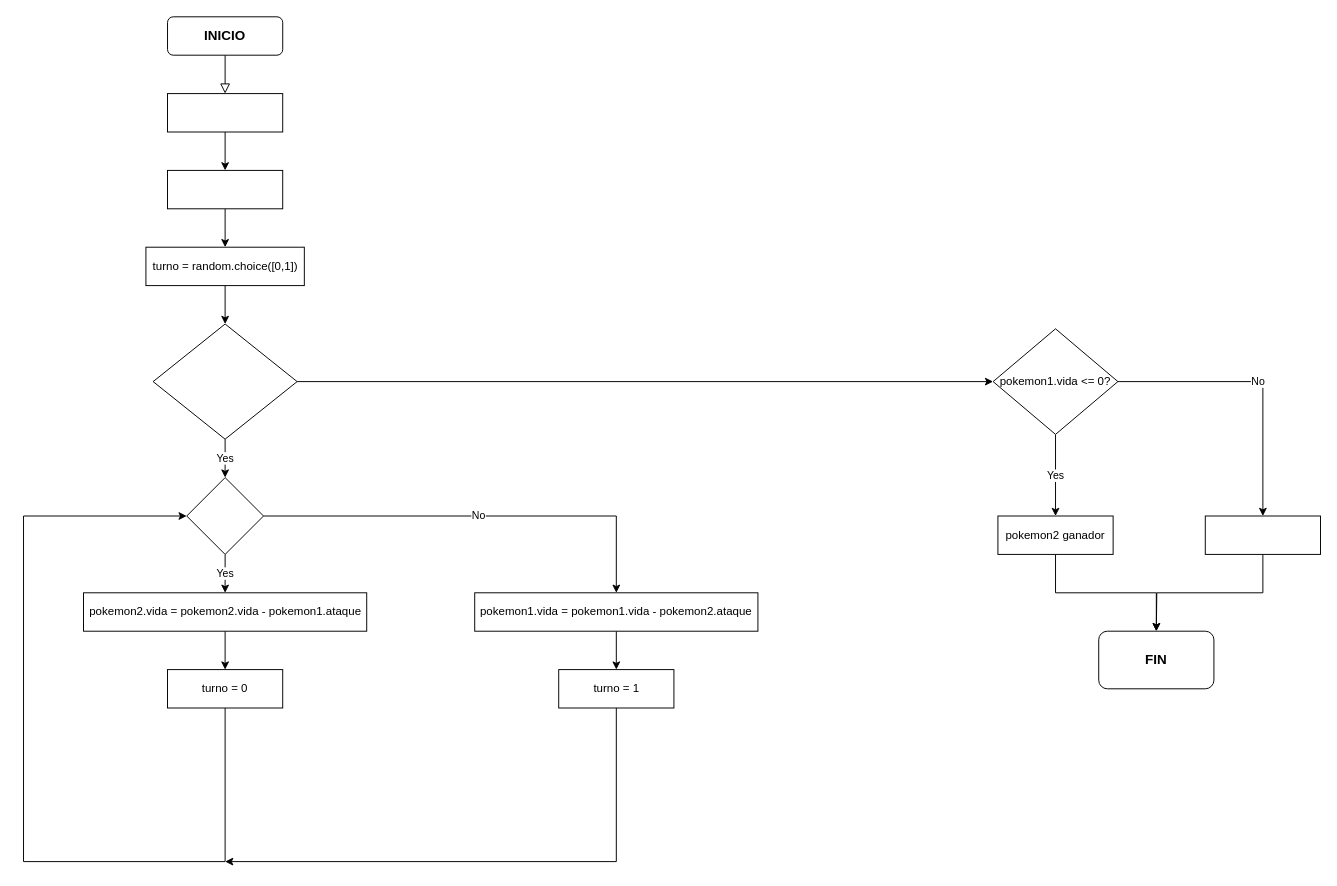
The diagram is 1337 pixels wide and 886 high, and some of its shapes have lost their labels. Each missing label, with the box of its shape:
pokemon1 ganador: (1204, 515, 1320, 554)
pokemon1.vida = 100: (167, 93, 283, 132)
pokemon1.vida > 0 AND pokemon2.vida > 0?: (152, 323, 297, 439)
pokemon2.vida = 100: (167, 169, 283, 209)
turno == 1?: (186, 477, 264, 554)
